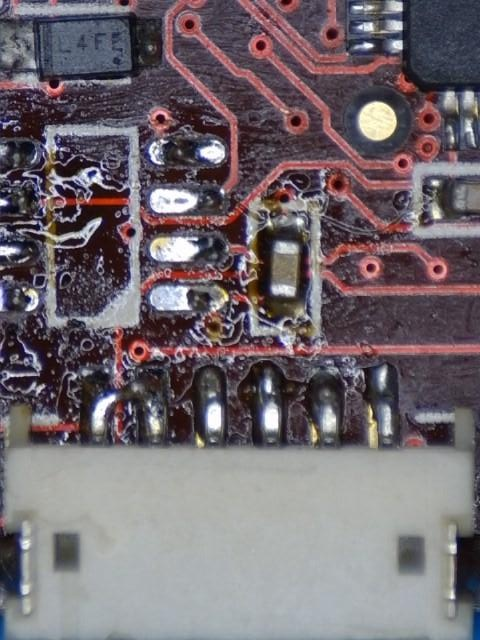pcb_defect: (80, 368, 167, 446)
